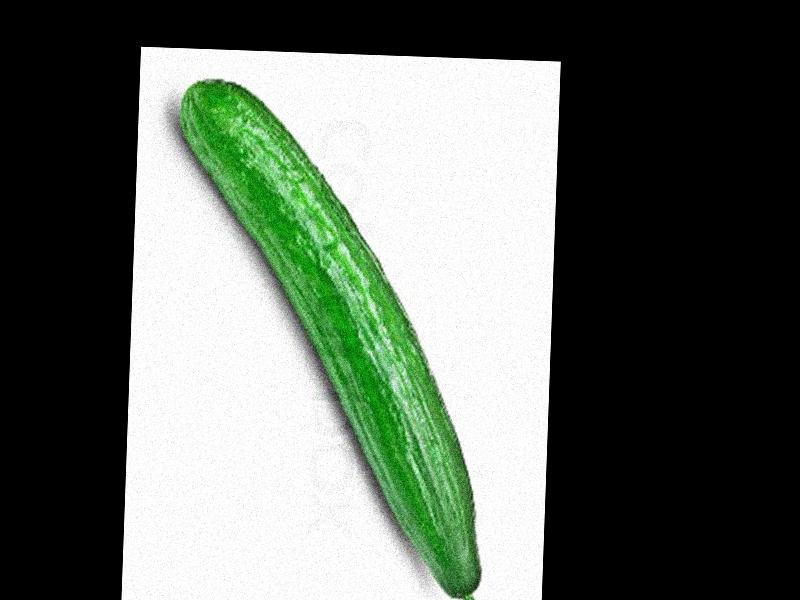Cucumber: (159, 80, 498, 600)
